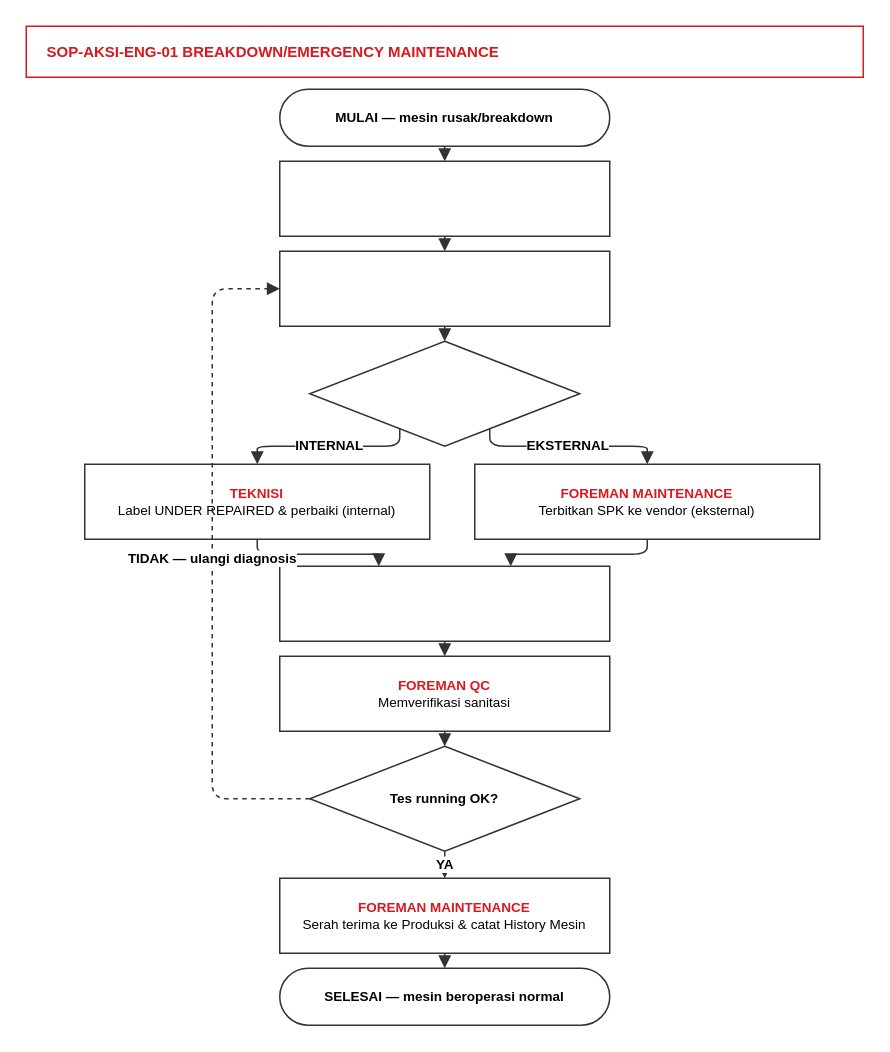
The diagram is 890 pixels wide and 1052 high, and some of its shapes have lost their labels. Each missing label, with the box of its shape:
Perbaikan internal atau eksternal?: (308, 340, 580, 446)
TEKNISI Melakukan diagnosis awal: (278, 250, 610, 326)
TEKNISI Membersihkan area & mengumpulkan tools: (278, 565, 610, 641)
TIM PRODUKSI Mengisi Job Order: (278, 160, 610, 236)
